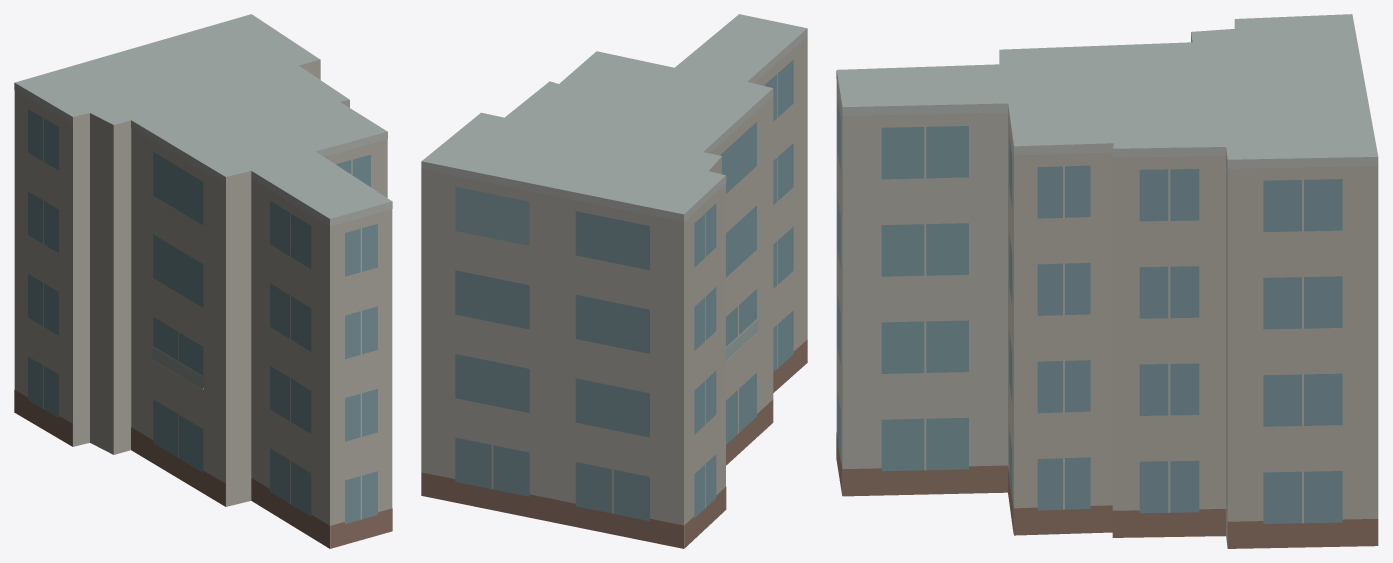
The model's file is survey-upis-32498627.glb.
The picture shows the model from 3 angles, left to right: view 1: azimuth 30°, elevation 25°; view 2: azimuth 150°, elevation 25°; view 3: azimuth 270°, elevation 25°; orthographic projection. The views are drawn at different scales.
Visible parts, largest first — view 1: survey-upis-32498627.tmp; view 2: survey-upis-32498627.tmp; view 3: survey-upis-32498627.tmp.
Boxes of the visible parts, x1,y1,x2,y2 form: survey-upis-32498627.tmp: [14, 14, 392, 548]; survey-upis-32498627.tmp: [421, 14, 807, 548]; survey-upis-32498627.tmp: [836, 14, 1378, 548].
Size of the model in its own units: 8.48 by 10.55 by 13.32.
